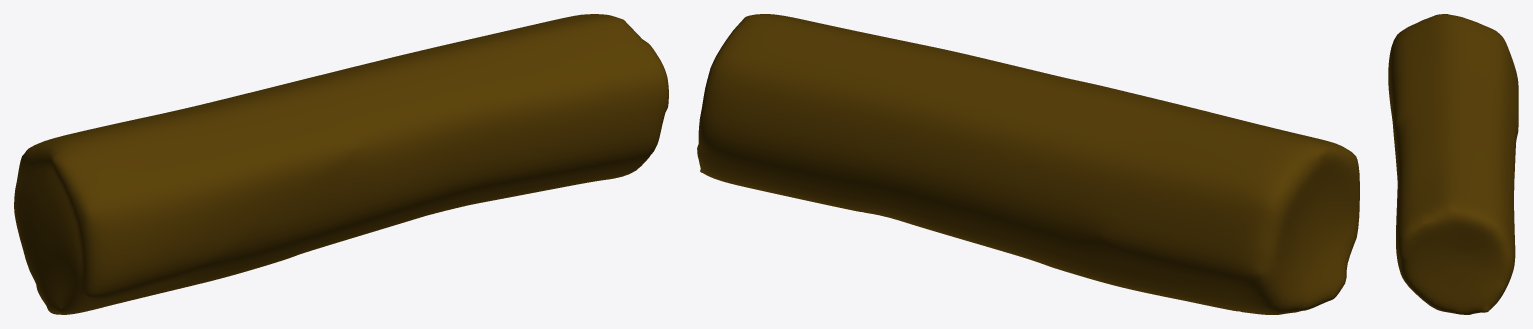
File: Log1.glb
The picture shows the model from 3 angles, left to right: view 1: azimuth 30°, elevation 25°; view 2: azimuth 150°, elevation 25°; view 3: azimuth 270°, elevation 25°; orthographic projection. The views are drawn at different scales.
Parts seen in each view (by area): view 1: Log1_wood; view 2: Log1_wood; view 3: Log1_wood.
Part boxes in pixels (left/top/right/bottom): Log1_wood: left=14, top=14, right=668, bottom=314; Log1_wood: left=697, top=14, right=1359, bottom=314; Log1_wood: left=1388, top=14, right=1518, bottom=314.
Bounding box in the file's own units: 7.99 × 2.07 × 2.17.
